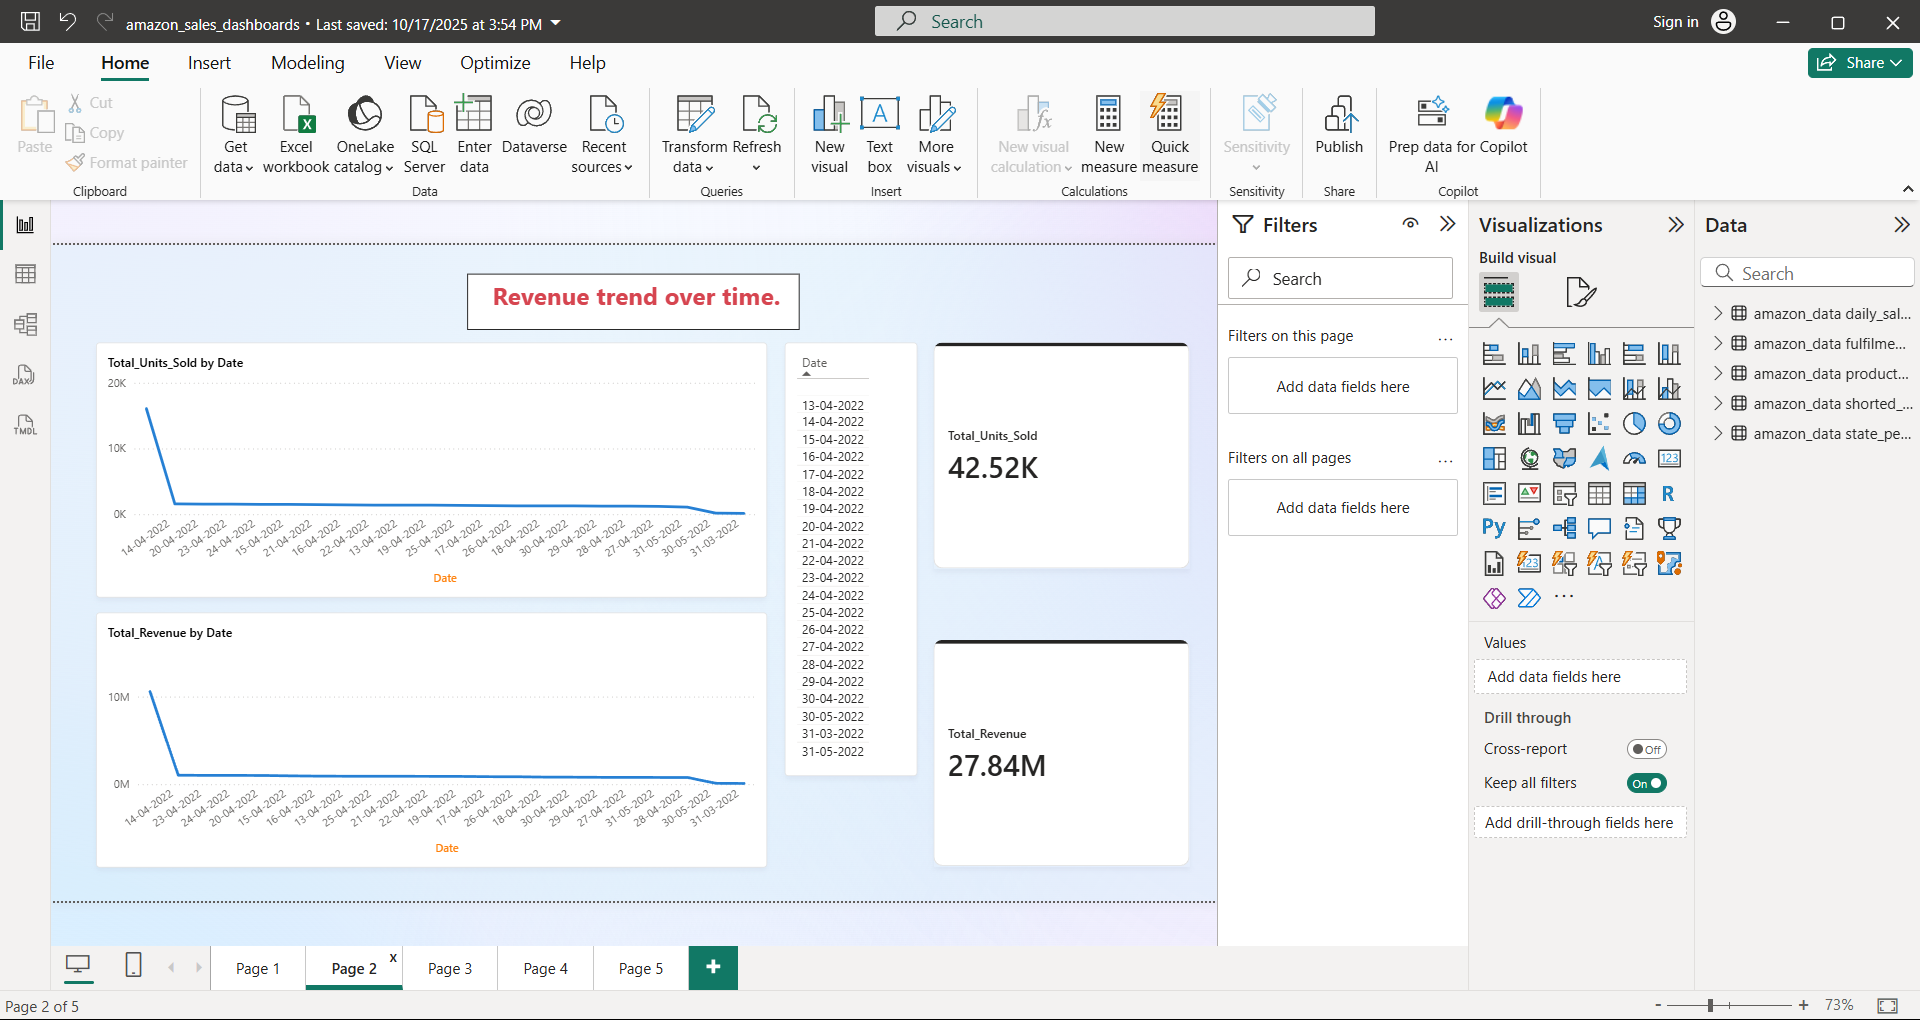

The page's visual inventory and layout, read from the dashboard file:
{"tool":"powerbi","page":{"name":"Page 2","canvas":[1280,720],"ordinal":1},"visuals":[{"type":"lineChart","fields":{"Category":["amazon_data daily_sales_summary.Date"],"Y":["Sum(amazon_data daily_sales_summary.Total_Units_Sold)"]},"box":[50,107.1,737.1,280],"z":0},{"type":"lineChart","fields":{"Category":["amazon_data daily_sales_summary.Date"],"Y":["Sum(amazon_data daily_sales_summary.Total_Revenue)"]},"box":[50,402.9,737.1,280],"z":1000},{"type":"tableEx","fields":{"Values":["amazon_data daily_sales_summary.Date"]},"box":[805.7,107.1,145.7,475.7],"z":2000},{"type":"cardVisual","fields":{"Data":["Sum(amazon_data daily_sales_summary.Total_Revenue)"]},"box":[968.6,434.3,281.4,248.6],"z":3000},{"type":"cardVisual","fields":{"Data":["Sum(amazon_data daily_sales_summary.Total_Units_Sold)"]},"box":[968.6,107.1,281.4,248.6],"z":4000},{"type":"textbox","box":[457.3,31.8,364.5,61.8],"z":5003}]}

Visuals, with their boxes on the page's 1280x720 design canvas (x1, y1, x2, y2). These are canvas units, not pixel positions in the 1920x1020 screenshot, which may show the page scaled, cropped or inside an application window:
lineChart - amazon_data daily_sales_summary.Date x Sum(amazon_data daily_sales_summary.Total_Units_Sold): 50:107:787:387
lineChart - amazon_data daily_sales_summary.Date x Sum(amazon_data daily_sales_summary.Total_Revenue): 50:403:787:683
tableEx - amazon_data daily_sales_summary.Date: 806:107:951:583
cardVisual - Sum(amazon_data daily_sales_summary.Total_Revenue): 969:434:1250:683
cardVisual - Sum(amazon_data daily_sales_summary.Total_Units_Sold): 969:107:1250:356
textbox: 457:32:822:94
